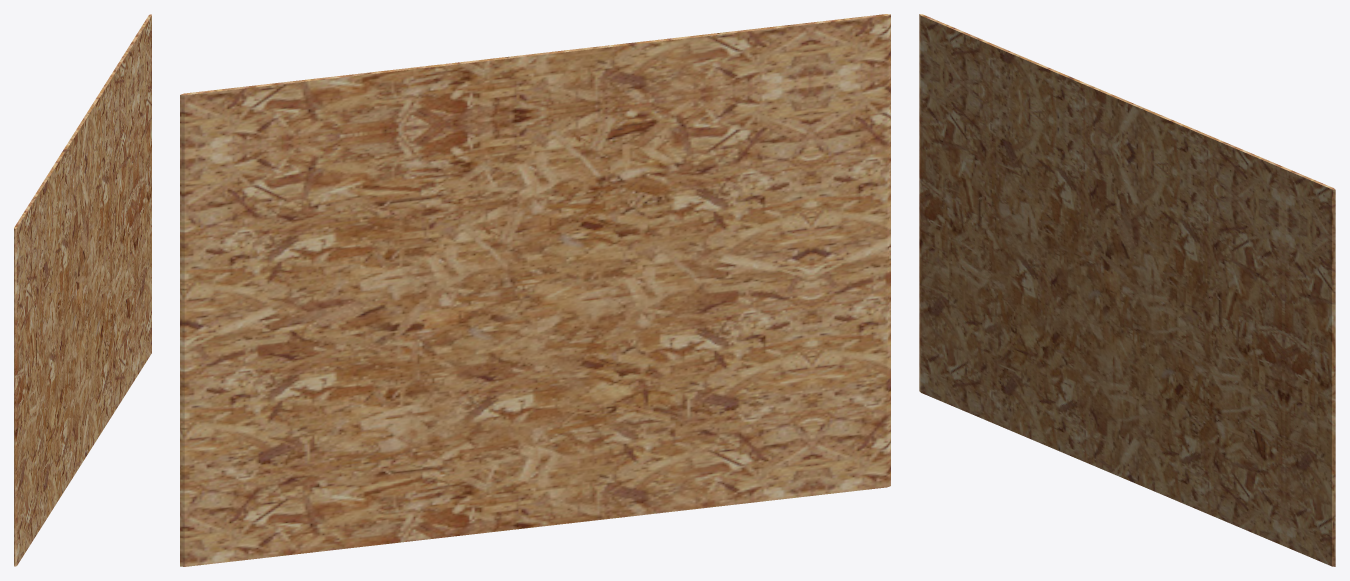
The model's file is wall_diag_120.dae.
3 views of the same model, side by side, from view 1: azimuth 30°, elevation 25°; view 2: azimuth 150°, elevation 25°; view 3: azimuth 270°, elevation 25° (orthographic). The views are drawn at different scales.
Visible parts, largest first — view 1: Plane; view 2: Plane; view 3: Plane.
Boxes of the visible parts, x1,y1,x2,y2 form: Plane: (14, 14, 151, 566); Plane: (180, 14, 890, 566); Plane: (919, 14, 1335, 566).
Bounding box in the file's own units: 1.2 × 1.2 × 1.2.
1 material, 1 textured.
